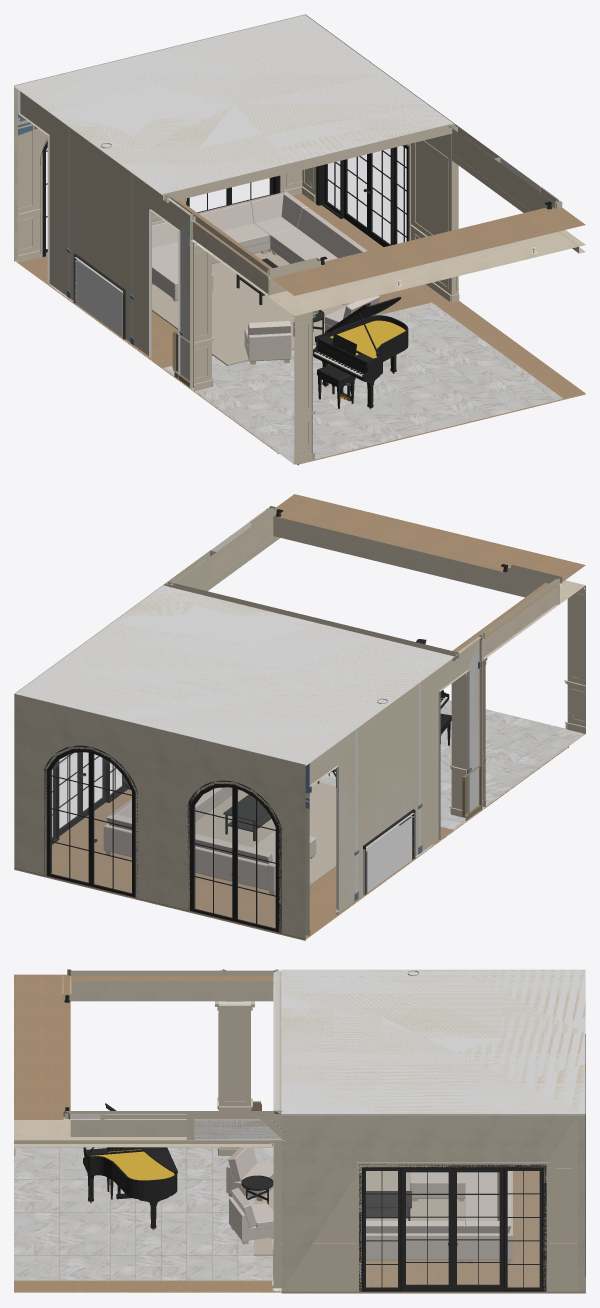
Rendered from family-room-9a89fe000644.glb.
3 renders of one model, top to bottom at view 1: azimuth 30°, elevation 25°; view 2: azimuth 150°, elevation 25°; view 3: azimuth 270°, elevation 25°, orthographic.
Visible parts, largest first — view 1: family-room-4a969f5cc1ae3dfe, family-room-ba376bd68a22f7f3, family-room-50d54560d247b537, family-room-2575515a05775d9e, family-room-9d80b152e3f2ea10, family-room-3b0077416469e01b, family-room-3d5fbc3a2a5f9c05, family-room-88f8978e186bf417, family-room-1a893a20b01c9fd3, family-room-55ff1dfd7b659ec1, family-room-969b861f9850351e, family-room-e706aa16b4547c37 (+19 smaller); view 2: family-room-4a969f5cc1ae3dfe, family-room-969b861f9850351e, family-room-9d80b152e3f2ea10, family-room-2575515a05775d9e, family-room-316290d012168088, family-room-b57b1dfcc6ff1bca, family-room-50d54560d247b537, family-room-3b0077416469e01b, family-room-55ff1dfd7b659ec1, family-room-ba376bd68a22f7f3, family-room-88f8978e186bf417, family-room-3d5fbc3a2a5f9c05 (+13 smaller); view 3: family-room-4a969f5cc1ae3dfe, family-room-e706aa16b4547c37, family-room-ba376bd68a22f7f3, family-room-3d5fbc3a2a5f9c05, family-room-50d54560d247b537, family-room-2575515a05775d9e, family-room-3b0077416469e01b, family-room-0bd714ee3619f5b4, family-room-1a893a20b01c9fd3, family-room-d20359ea22d8532c, family-room-65a368b7809647e4, family-room-a8ea7d4d2b17a47a (+20 smaller).
Part boxes in pixels (bbox=[...]): family-room-4a969f5cc1ae3dfe: bbox=[14, 15, 453, 195]; family-room-ba376bd68a22f7f3: bbox=[163, 302, 563, 463]; family-room-50d54560d247b537: bbox=[14, 14, 454, 194]; family-room-2575515a05775d9e: bbox=[191, 162, 585, 315]; family-room-9d80b152e3f2ea10: bbox=[20, 91, 190, 380]; family-room-3b0077416469e01b: bbox=[14, 194, 585, 464]; family-room-3d5fbc3a2a5f9c05: bbox=[316, 145, 408, 246]; family-room-88f8978e186bf417: bbox=[152, 251, 384, 365]; family-room-1a893a20b01c9fd3: bbox=[313, 297, 408, 409]; family-room-55ff1dfd7b659ec1: bbox=[18, 90, 189, 380]; family-room-969b861f9850351e: bbox=[14, 87, 302, 262]; family-room-e706aa16b4547c37: bbox=[302, 134, 447, 291]; family-room-4a969f5cc1ae3dfe: bbox=[14, 585, 454, 765]; family-room-969b861f9850351e: bbox=[14, 695, 309, 938]; family-room-9d80b152e3f2ea10: bbox=[309, 639, 479, 912]; family-room-2575515a05775d9e: bbox=[206, 494, 585, 660]; family-room-316290d012168088: bbox=[187, 780, 281, 932]; family-room-b57b1dfcc6ff1bca: bbox=[44, 745, 137, 897]; family-room-50d54560d247b537: bbox=[14, 584, 445, 765]; family-room-3b0077416469e01b: bbox=[14, 746, 568, 939]; family-room-55ff1dfd7b659ec1: bbox=[309, 637, 481, 913]; family-room-ba376bd68a22f7f3: bbox=[319, 700, 584, 829]; family-room-88f8978e186bf417: bbox=[195, 782, 336, 885]; family-room-3d5fbc3a2a5f9c05: bbox=[52, 752, 130, 844]; family-room-4a969f5cc1ae3dfe: bbox=[281, 969, 585, 1115]; family-room-e706aa16b4547c37: bbox=[281, 1115, 577, 1291]; family-room-ba376bd68a22f7f3: bbox=[14, 1147, 273, 1280]; family-room-3d5fbc3a2a5f9c05: bbox=[359, 1164, 546, 1291]; family-room-50d54560d247b537: bbox=[281, 969, 585, 1114]; family-room-2575515a05775d9e: bbox=[14, 974, 193, 1136]; family-room-3b0077416469e01b: bbox=[14, 1171, 585, 1292]; family-room-0bd714ee3619f5b4: bbox=[70, 976, 273, 1001]; family-room-1a893a20b01c9fd3: bbox=[83, 1103, 177, 1229]; family-room-d20359ea22d8532c: bbox=[366, 1221, 465, 1263]; family-room-65a368b7809647e4: bbox=[219, 1001, 250, 1148]; family-room-a8ea7d4d2b17a47a: bbox=[14, 1136, 273, 1147].
Size of the model in its own units: 6.16 by 3.56 by 10.26.
Materials: 46 (7 with a texture image).
